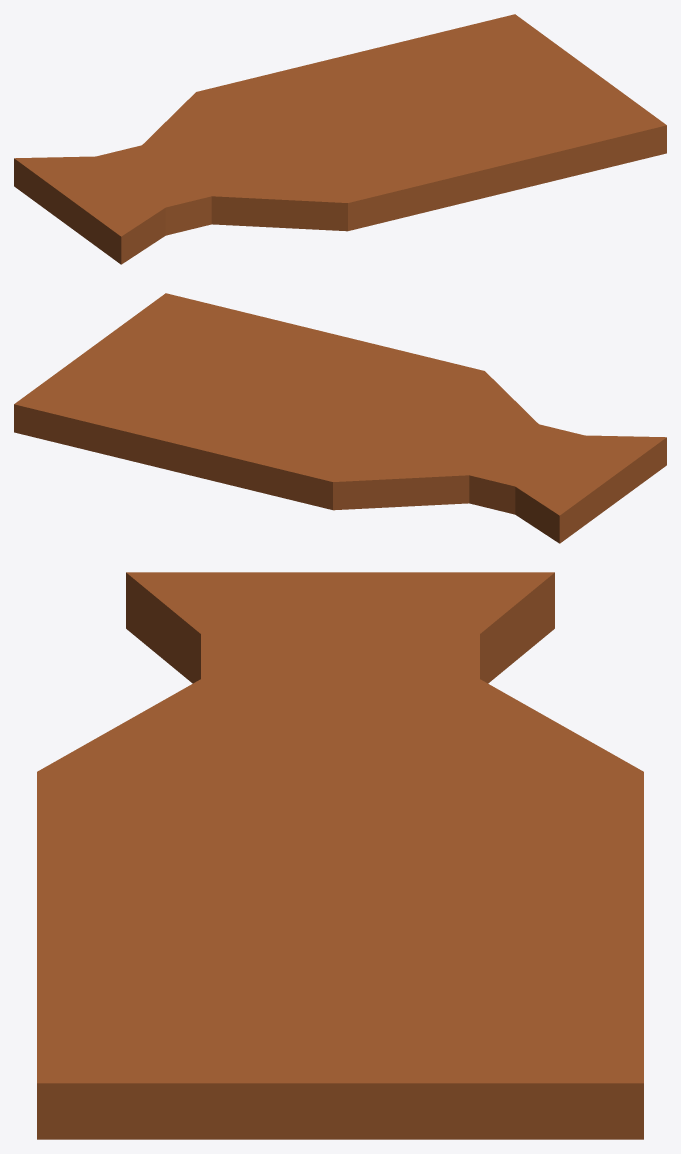
File: cutting_board.glb
The picture shows the model from 3 angles, top to bottom: view 1: azimuth 30°, elevation 25°; view 2: azimuth 150°, elevation 25°; view 3: azimuth 270°, elevation 25°; orthographic projection. The views are drawn at different scales.
Visible parts, largest first — view 1: cutting_board; view 2: cutting_board; view 3: cutting_board.
Part boxes in pixels (bbox=[...]): cutting_board: bbox=[14, 14, 666, 264]; cutting_board: bbox=[14, 293, 666, 543]; cutting_board: bbox=[37, 572, 643, 1139].
Size of the model in its own units: 1.6 by 0.0824 by 0.8058.
